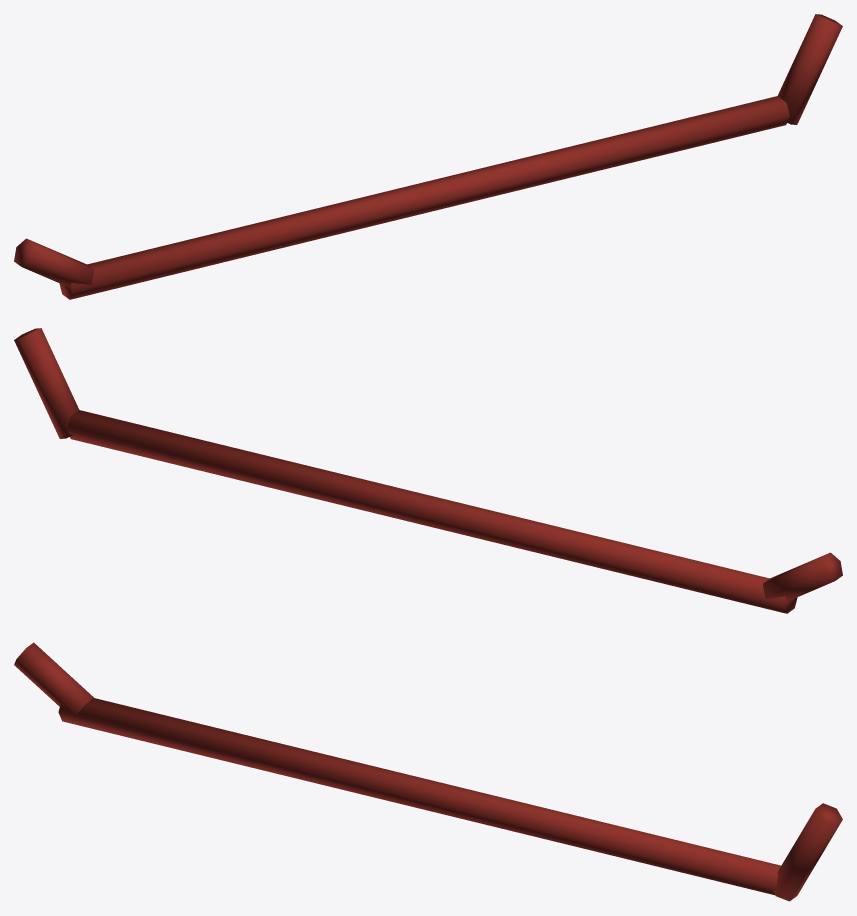
The model's file is crowbar.glb.
The picture shows the model from 3 angles, top to bottom: view 1: azimuth 30°, elevation 25°; view 2: azimuth 150°, elevation 25°; view 3: azimuth 330°, elevation 25°; orthographic projection.
Visible parts, largest first — view 1: Item; view 2: Item; view 3: Item.
Part boxes in pixels (x1,y1,x2,y2): Item: (14,14,842,299); Item: (14,328,842,613); Item: (14,642,842,901).
Bounding box in the file's own units: 0.6879 × 0.0793 × 0.022.
